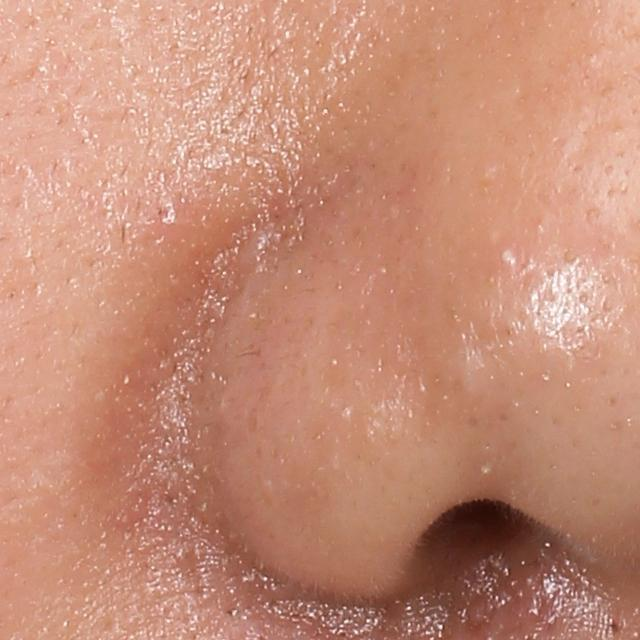pustule: (492, 241, 519, 270)
